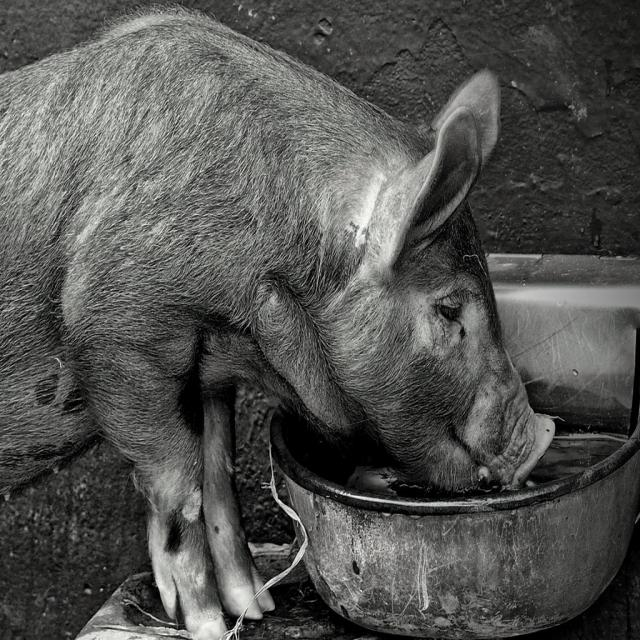Pig: (0, 1, 555, 640)
